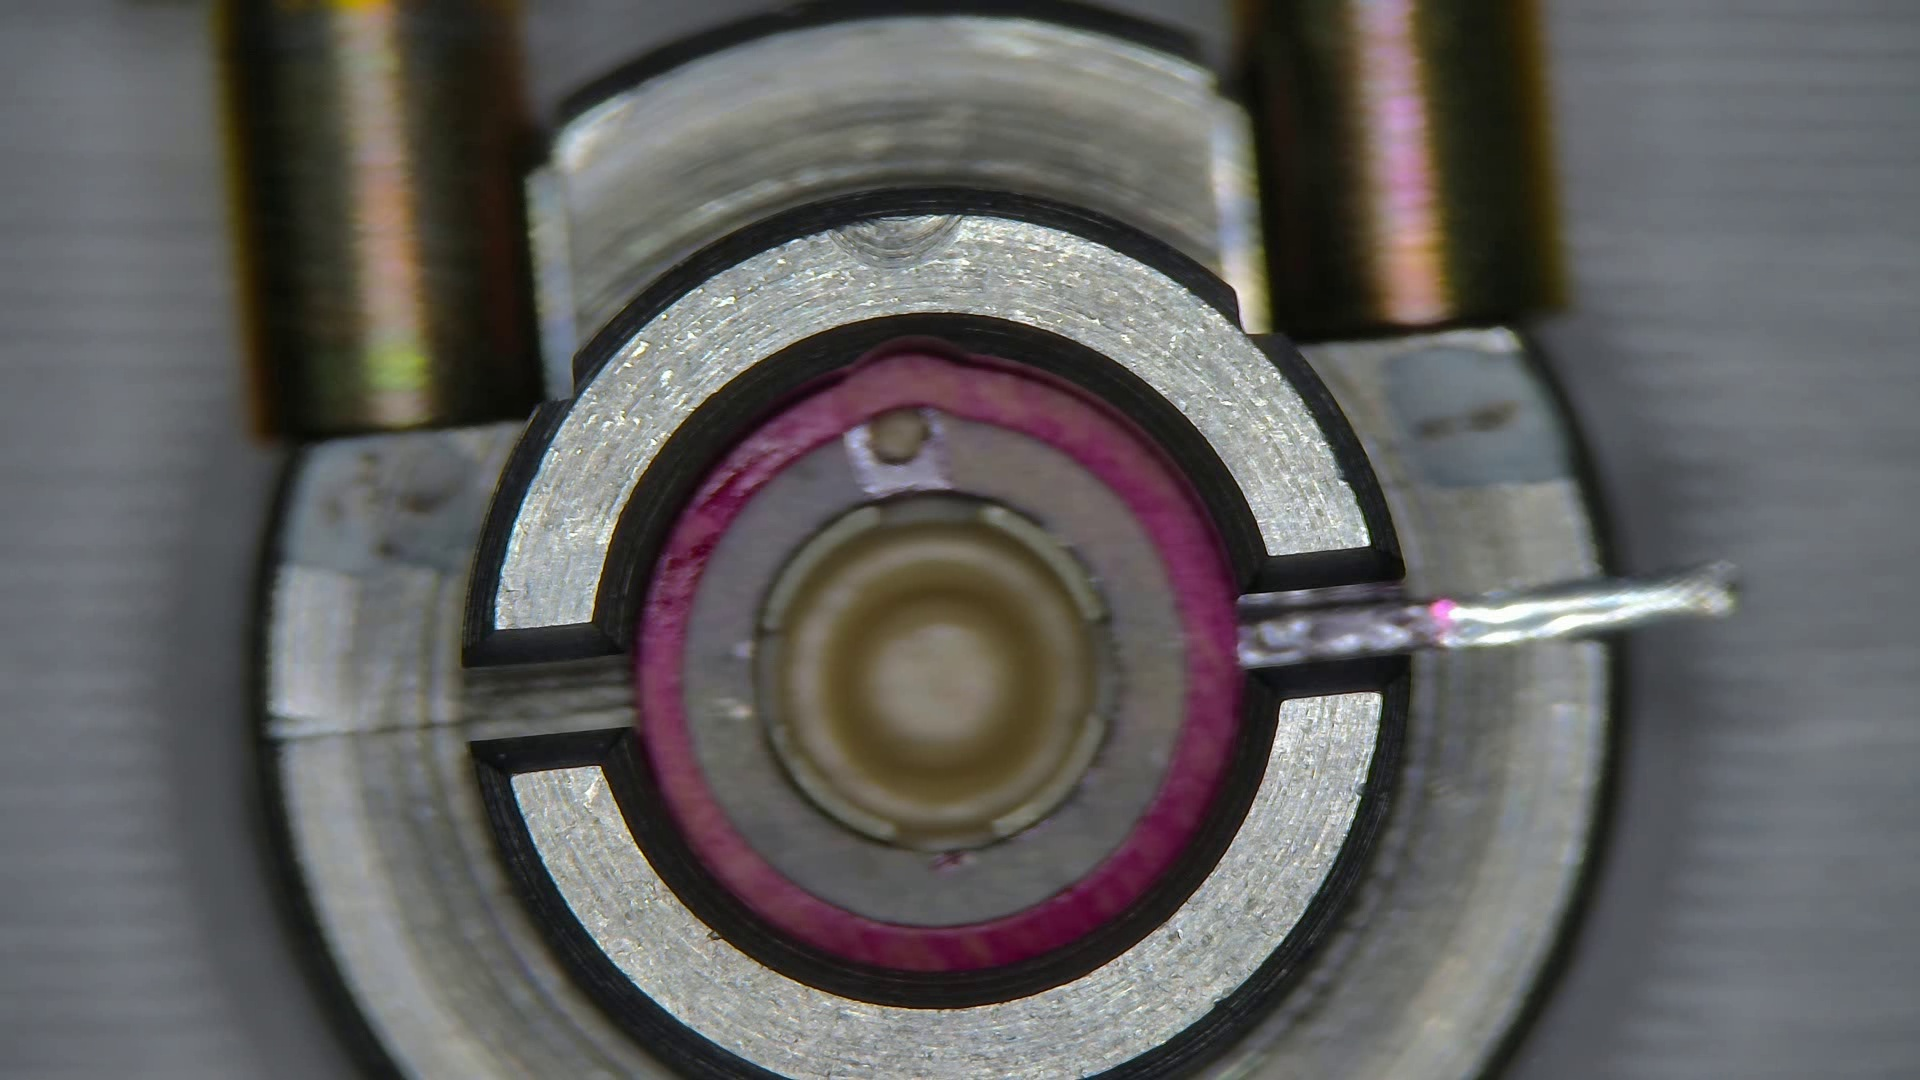GreyOring: (636, 353, 1240, 972)
YellowOring: (684, 409, 1184, 924)
